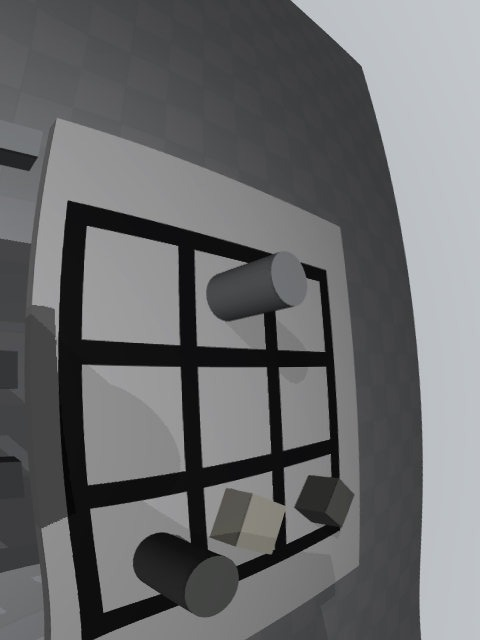can: (206, 251, 307, 321)
cube: (294, 475, 355, 528)
cylinder: (133, 532, 239, 618)
foam: (210, 488, 286, 554)
